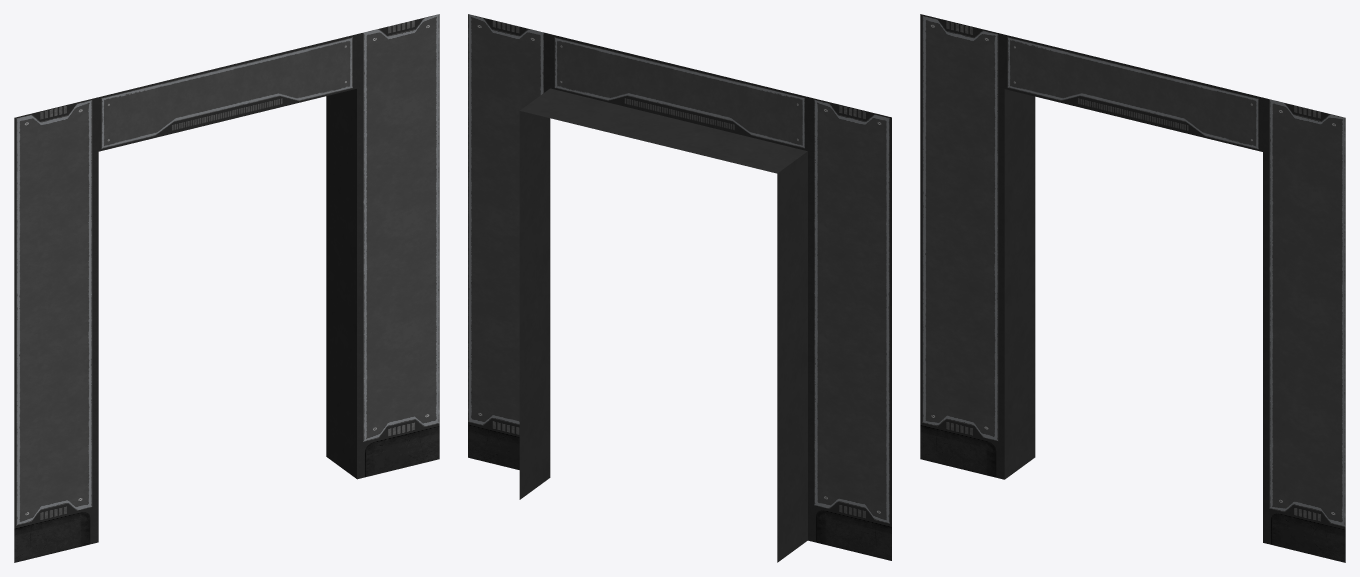
The model's file is Doorway_Flat.fbx.
3 renders of one model, left to right at view 1: azimuth 30°, elevation 25°; view 2: azimuth 150°, elevation 25°; view 3: azimuth 330°, elevation 25°, orthographic.
Parts seen in each view (by area): view 1: Doorway_Flat; view 2: Doorway_Flat; view 3: Doorway_Flat.
Part boxes in pixels (<box>): Doorway_Flat: <box>14,14,439,562</box>; Doorway_Flat: <box>468,14,891,562</box>; Doorway_Flat: <box>920,14,1345,562</box>.
Bounding box in the file's own units: 400 × 400 × 50.
1 material, 1 textured.
